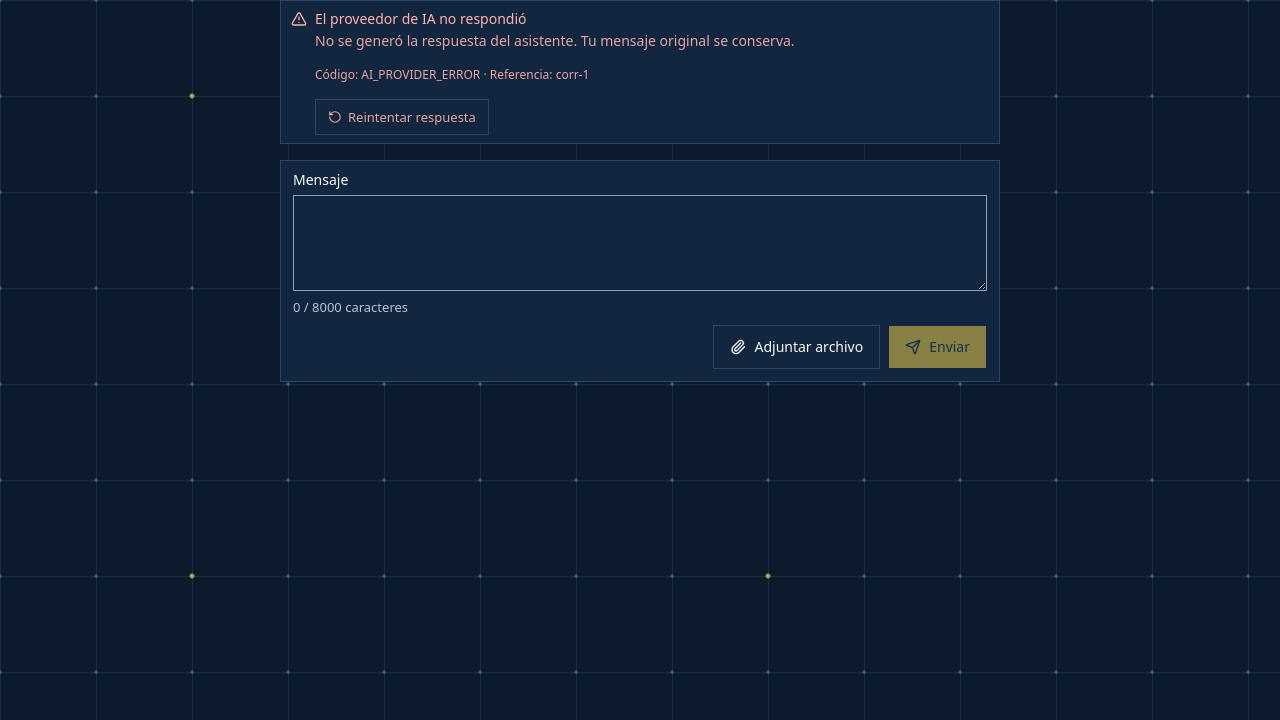
ChatContainer (MVP-054; red simulada, no es integración real) › reabrir con la lectura caída: error visible (no «sin mensajes» silencioso) y reintento que recupera
This screenshot has width=1280, height=720.
Step 1. Click the button "Reintentar respuesta" → coordinates (402, 117), box [315,99,489,135]
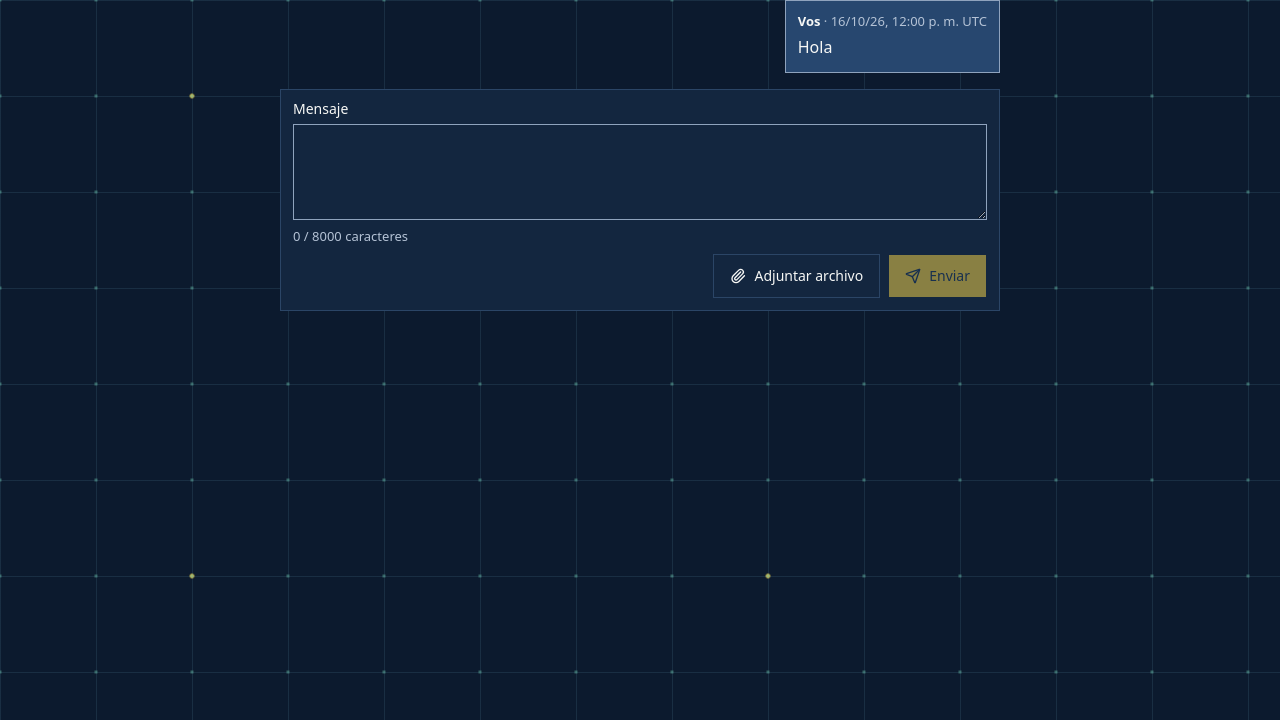
Now the text "Hola" is shown, box [798,36,832,58]
